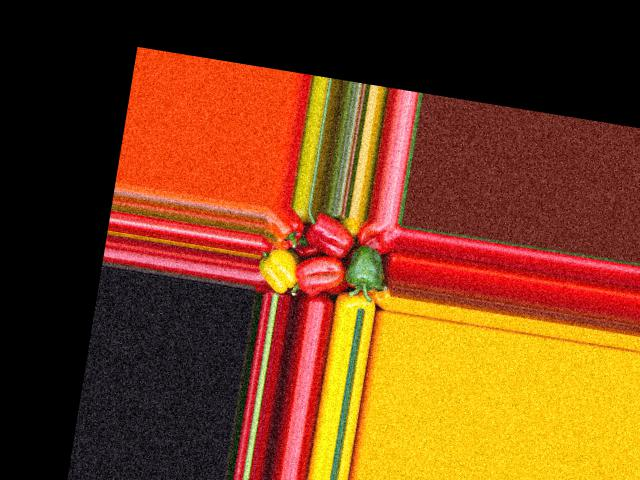bell_pepper: (254, 242, 304, 298)
